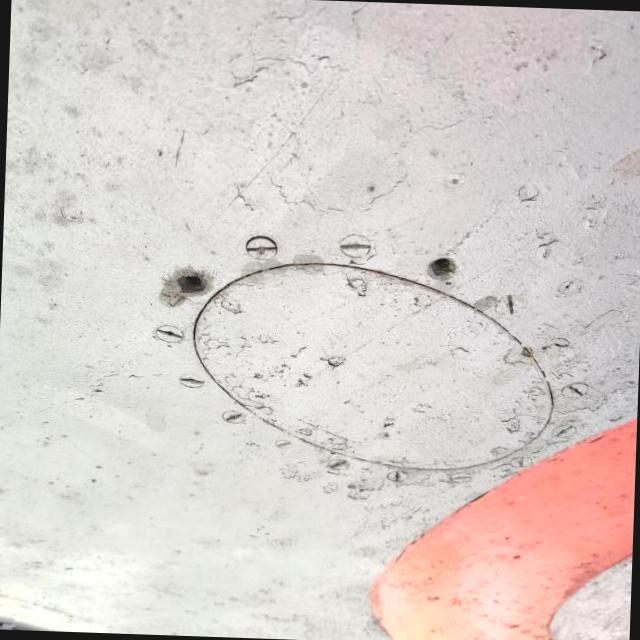Missing Fastener: (175, 266, 208, 293), (429, 255, 459, 280)
